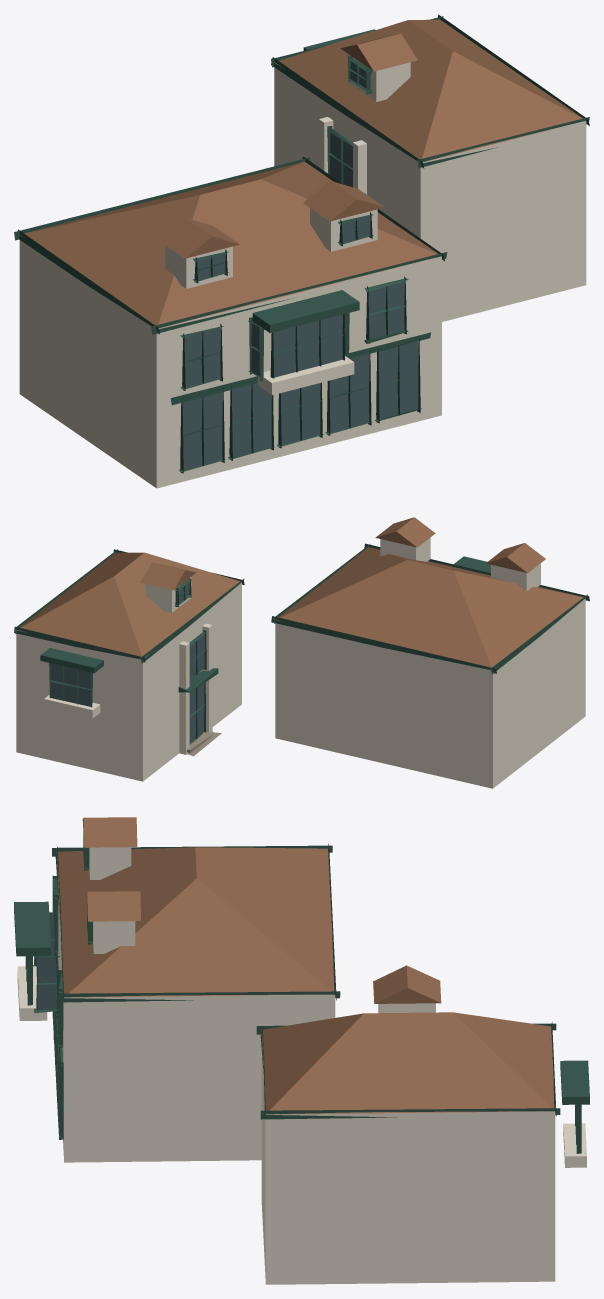
File: villa-le-bec-identity-v2.glb
3 views of the same model, one above another, from view 1: azimuth 30°, elevation 25°; view 2: azimuth 150°, elevation 25°; view 3: azimuth 270°, elevation 25° (orthographic). The views are drawn at different scales.
Parts seen in each view (by area): view 1: villa-le-bec-identity-v2; view 2: villa-le-bec-identity-v2; view 3: villa-le-bec-identity-v2.
Part boxes in pixels (<box>): villa-le-bec-identity-v2: <box>14,14,589,488</box>; villa-le-bec-identity-v2: <box>14,517,589,788</box>; villa-le-bec-identity-v2: <box>14,817,589,1284</box>.
Bounding box in the file's own units: 11.26 × 4.54 × 9.96.
